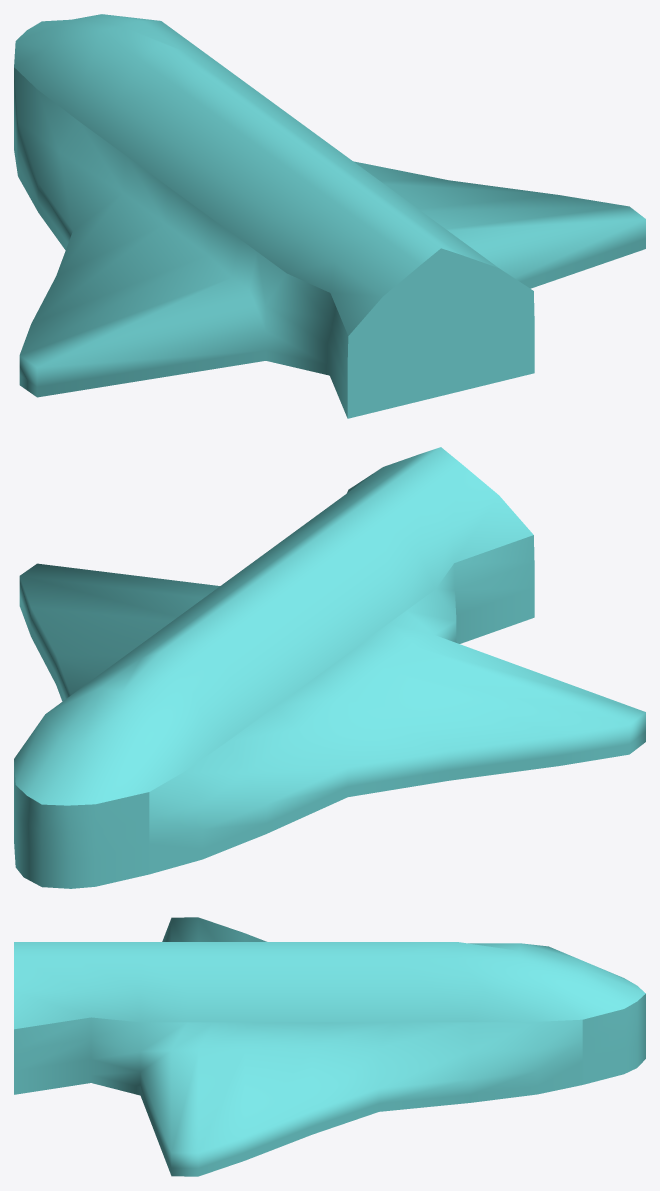
File: Spaceship_V2.FBX
3 views of the same model, one above another, from view 1: azimuth 30°, elevation 25°; view 2: azimuth 150°, elevation 25°; view 3: azimuth 270°, elevation 25° (orthographic). The views are drawn at different scales.
Visible parts, largest first — view 1: Box001; view 2: Box001; view 3: Box001.
Boxes of the visible parts, bbox=[...] form: Box001: bbox=[14, 14, 645, 418]; Box001: bbox=[14, 447, 645, 888]; Box001: bbox=[14, 917, 645, 1176].
Bounding box in the file's own units: 1690 × 391 × 1916.
